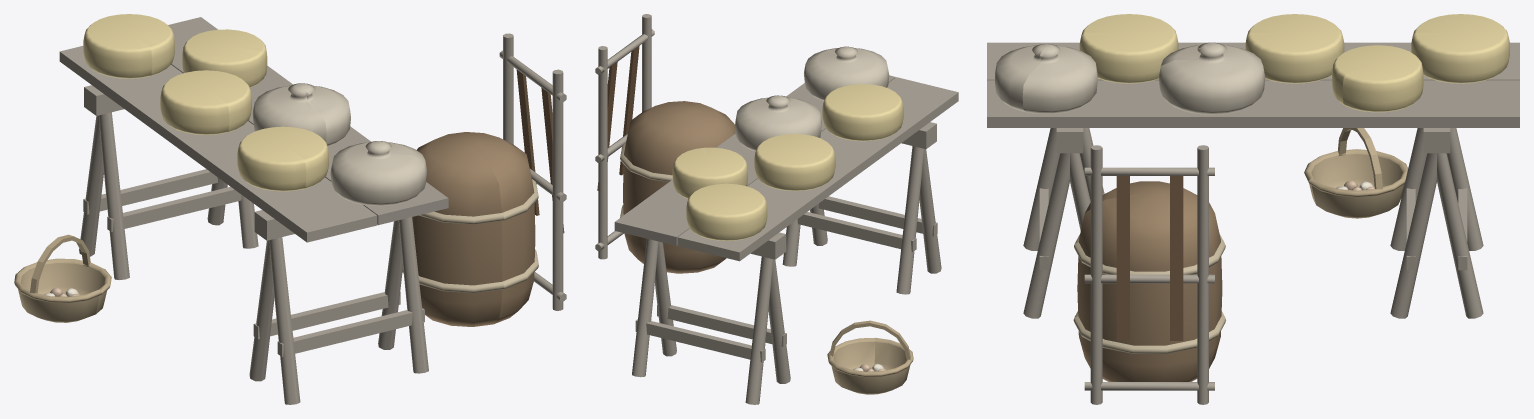
The model's file is pedlar-pack.glb.
The picture shows the model from 3 angles, left to right: view 1: azimuth 30°, elevation 25°; view 2: azimuth 150°, elevation 25°; view 3: azimuth 270°, elevation 25°; orthographic projection. The views are drawn at different scales.
Parts seen in each view (by area): view 1: basket-body; view 2: basket-body; view 3: basket-body.
Part boxes in pixels (<box>): basket-body: <box>14,14,566,404</box>; basket-body: <box>595,14,958,404</box>; basket-body: <box>987,14,1519,404</box>.
Size of the model in its own units: 1.81 by 0.956 by 1.8.
